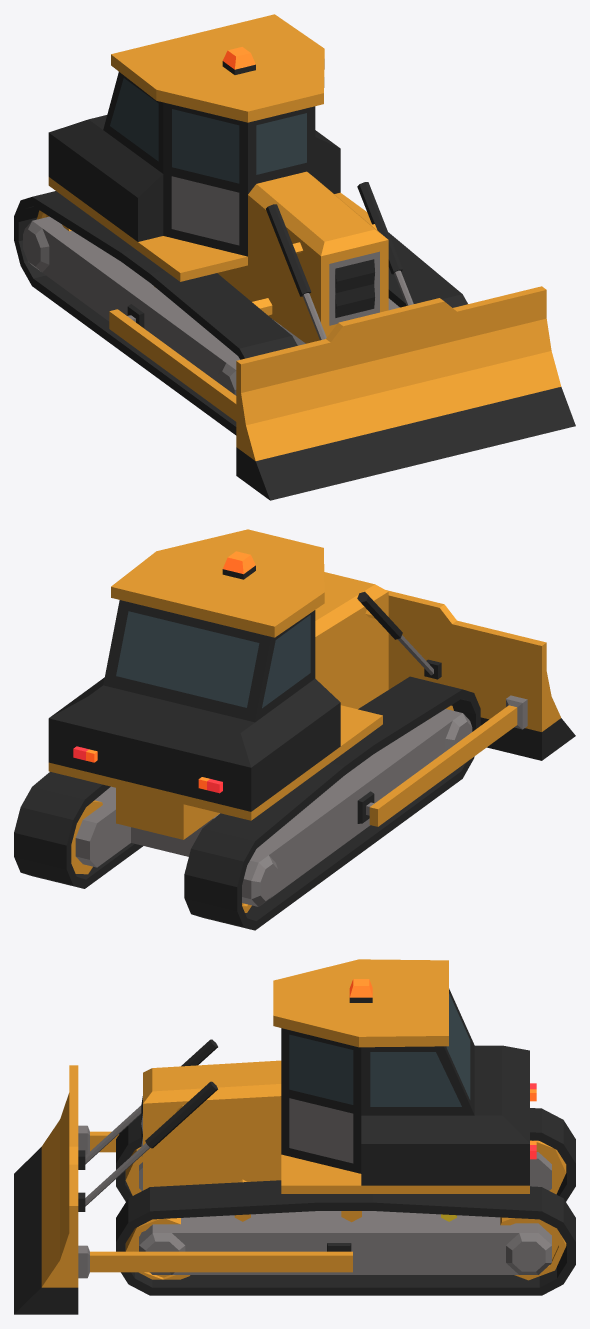
Rendered from vehicles_bulldozer.fbx.
3 renders of one model, top to bottom at view 1: azimuth 30°, elevation 25°; view 2: azimuth 150°, elevation 25°; view 3: azimuth 270°, elevation 25°, orthographic. The views are drawn at different scales.
Parts seen in each view (by area): view 1: bulldozer_base, bulldozer_front, bulldozer_belt, bulldozer_chassis; view 2: bulldozer_base, bulldozer_belt, bulldozer_front, bulldozer_chassis, bulldozer_wheel_B; view 3: bulldozer_base, bulldozer_belt, bulldozer_front, bulldozer_chassis, bulldozer_wheel_B, bulldozer_wheel_F.
Boxes of the visible parts, x1,y1,x2,y2 form: bulldozer_base: (48,14,388,343); bulldozer_front: (109,182,575,500); bulldozer_belt: (14,191,467,435); bulldozer_chassis: (23,216,399,395); bulldozer_base: (48,529,388,839); bulldozer_belt: (14,676,480,930); bulldozer_front: (357,590,575,826); bulldozer_chassis: (75,709,472,906); bulldozer_wheel_B: (71,800,251,912); bulldozer_base: (141,959,536,1193); bulldozer_belt: (116,1108,575,1295); bulldozer_front: (14,1039,352,1314); bulldozer_chassis: (139,1152,551,1274); bulldozer_wheel_B: (500,1140,566,1280); bulldozer_wheel_F: (125,1147,190,1279).
Size of the model in its own units: 119 by 103 by 200.
